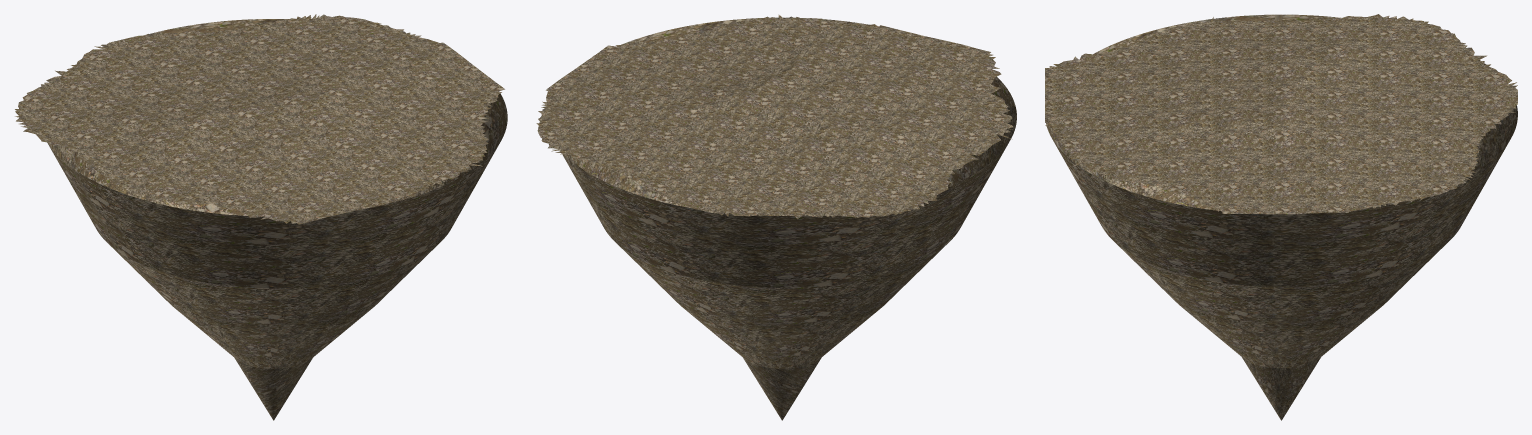
The model's file is terrain002.glb.
The picture shows the model from 3 angles, left to right: view 1: azimuth 30°, elevation 25°; view 2: azimuth 150°, elevation 25°; view 3: azimuth 270°, elevation 25°; orthographic projection.
Parts seen in each view (by area): view 1: Terrain002_1K, skirt; view 2: Terrain002_1K, skirt; view 3: Terrain002_1K, skirt.
Part boxes in pixels (x1,y1,x2,y2): Terrain002_1K: (15, 14, 504, 224); skirt: (47, 19, 507, 420); Terrain002_1K: (536, 14, 1013, 218); skirt: (560, 17, 1016, 420); Terrain002_1K: (1045, 14, 1517, 213); skirt: (1046, 14, 1517, 420).
Bounding box in the file's own units: 200 × 149 × 200.
1 material, 1 textured.
